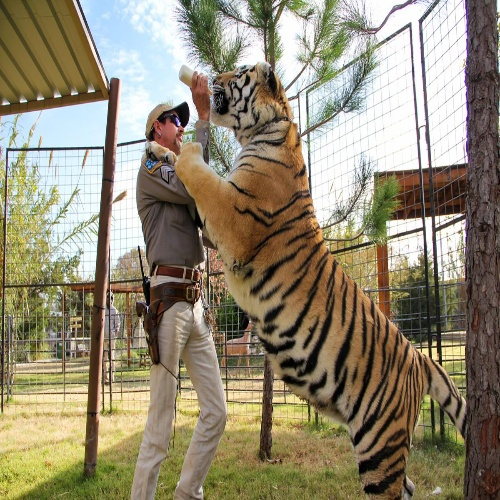tiger: (195, 44, 437, 489)
